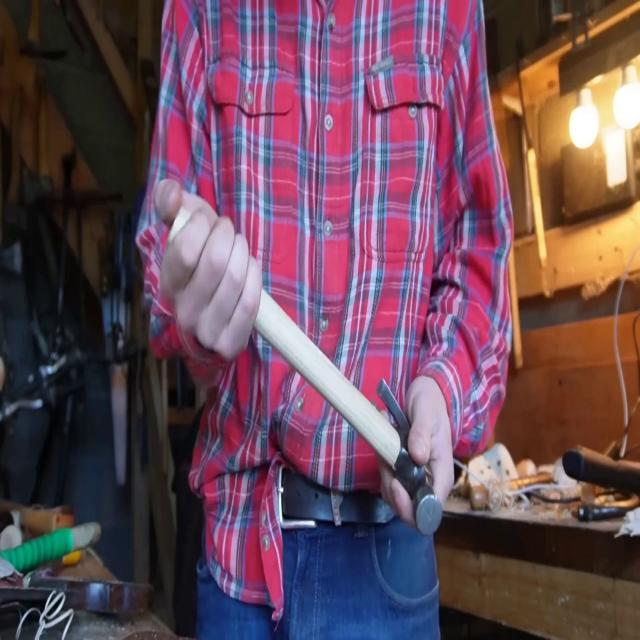hammer: (167, 206, 443, 536)
